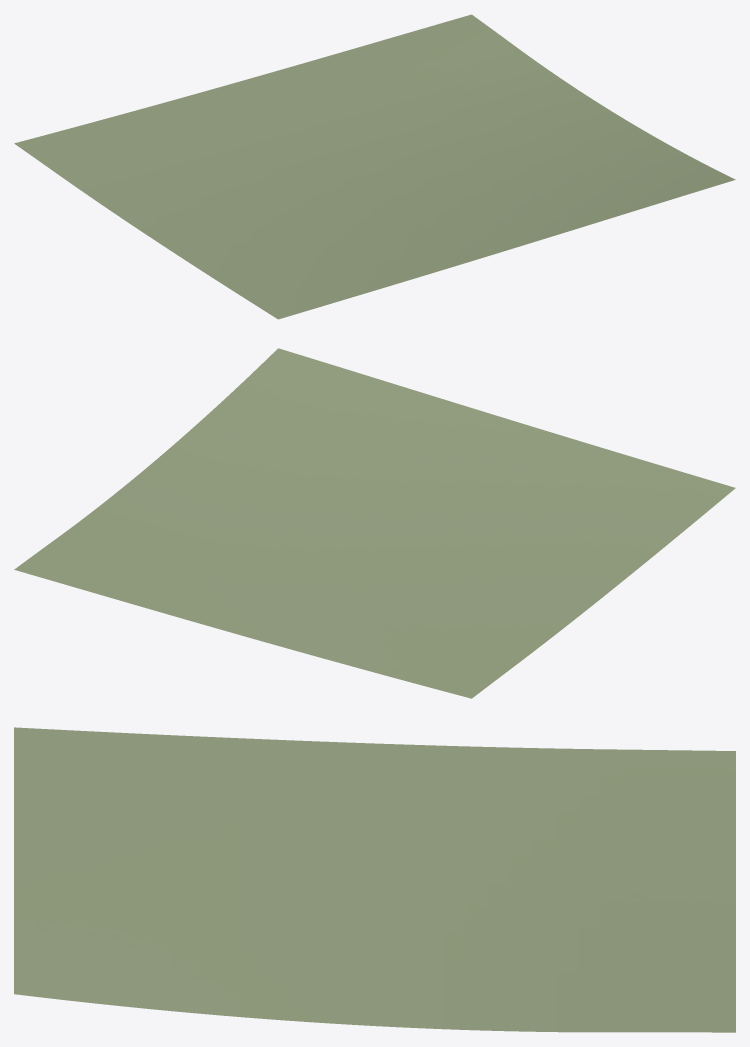
File: expanse-25-3.glb
3 views of the same model, one above another, from view 1: azimuth 30°, elevation 25°; view 2: azimuth 150°, elevation 25°; view 3: azimuth 270°, elevation 25° (orthographic). The views are drawn at different scales.
Visible parts, largest first — view 1: expanse-25-3; view 2: expanse-25-3; view 3: expanse-25-3.
Boxes of the visible parts, <box> form: expanse-25-3: <box>14,14,735,319</box>; expanse-25-3: <box>14,348,735,698</box>; expanse-25-3: <box>14,727,735,1032</box>.
Bounding box in the file's own units: 256 × 24.27 × 256.
